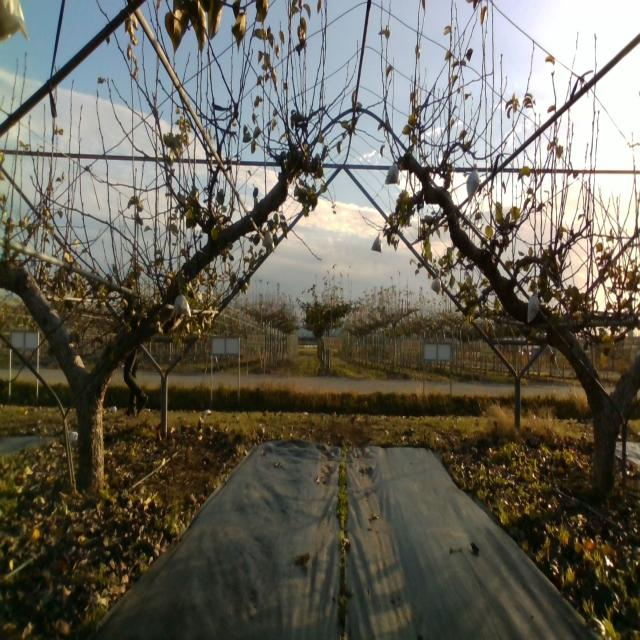pearbags: (173, 290, 192, 317), (466, 169, 479, 202), (527, 293, 540, 323), (384, 162, 400, 185), (262, 230, 276, 251), (430, 276, 442, 297), (371, 231, 382, 253)
